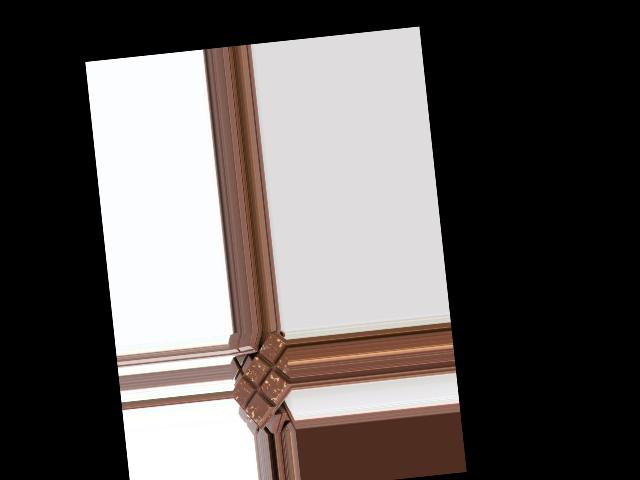chocolate: (228, 331, 295, 425)
